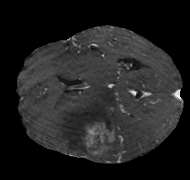Edema: (53, 79, 153, 157)
EnhancingTumors: (76, 114, 116, 152)
Necrosis: (81, 120, 108, 147)
